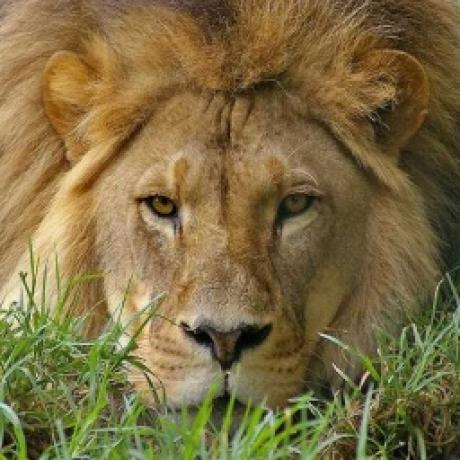Lion: (0, 0, 460, 446)
